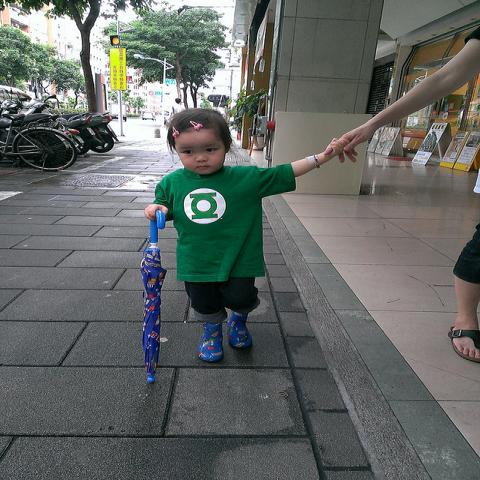motorcycle: (24, 86, 97, 154), (89, 110, 122, 153)
